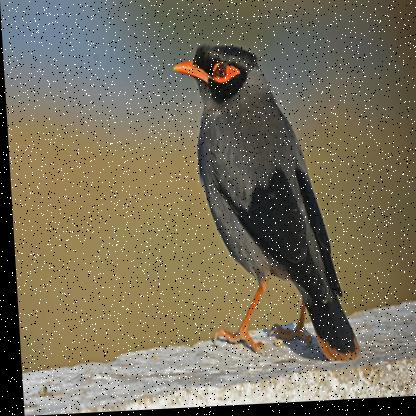Burung: (170, 40, 355, 366)
